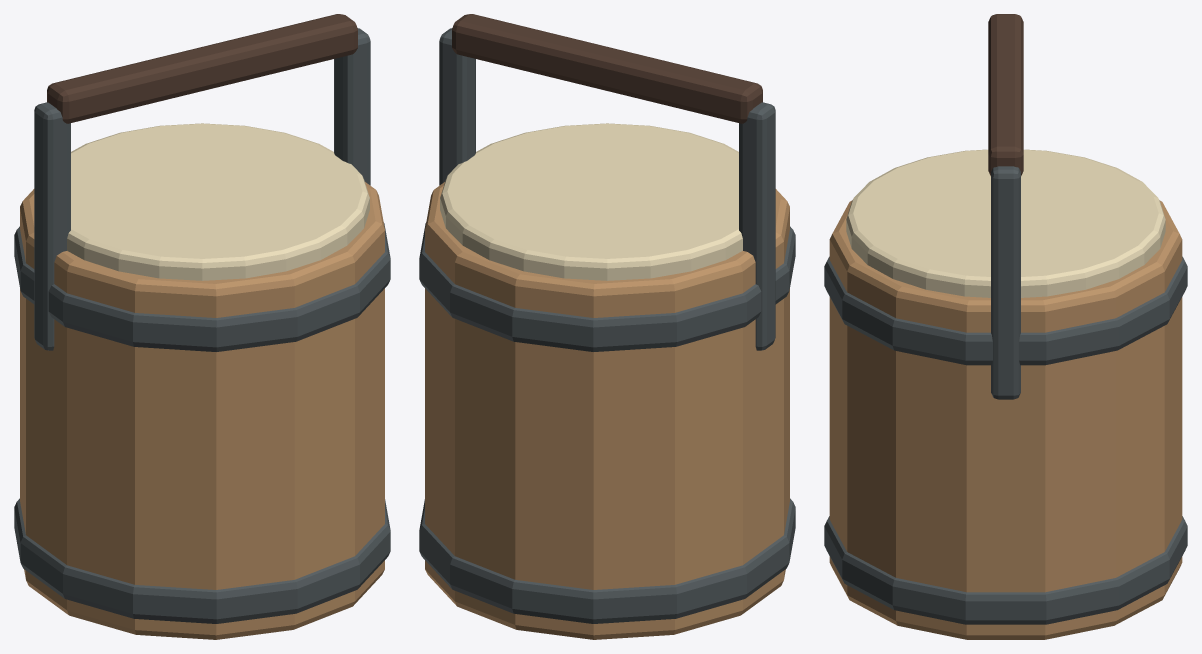
The model's file is carry_plaster.glb.
The picture shows the model from 3 angles, left to right: view 1: azimuth 30°, elevation 25°; view 2: azimuth 150°, elevation 25°; view 3: azimuth 270°, elevation 25°; orthographic projection. The views are drawn at different scales.
Visible parts, largest first — view 1: carry_plaster; view 2: carry_plaster; view 3: carry_plaster.
Boxes of the visible parts, bbox=[...] form: carry_plaster: bbox=[14, 14, 390, 639]; carry_plaster: bbox=[419, 14, 795, 639]; carry_plaster: bbox=[824, 14, 1187, 639].
Size of the model in its own units: 0.327 by 0.491 by 0.33.
